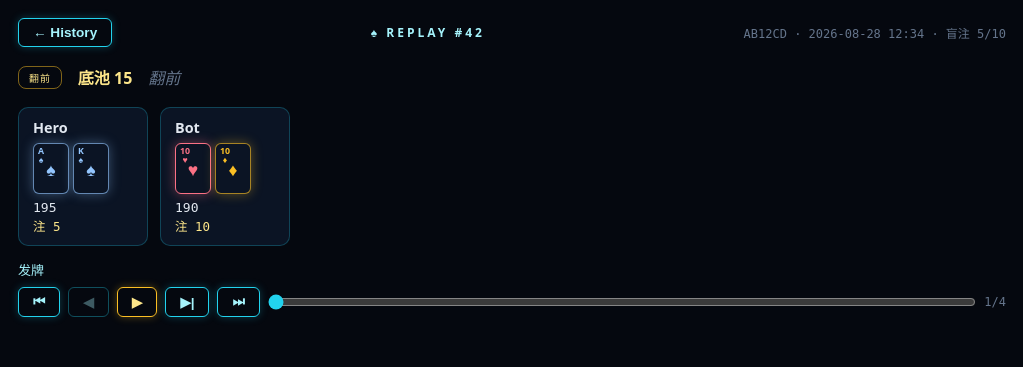
Test: slider scrubs to a frame
Check: the text "发牌" is shown, box [18, 263, 44, 278]
Set the slider with class "replay-slider" to "2" at (737, 302), box [268, 294, 976, 310]
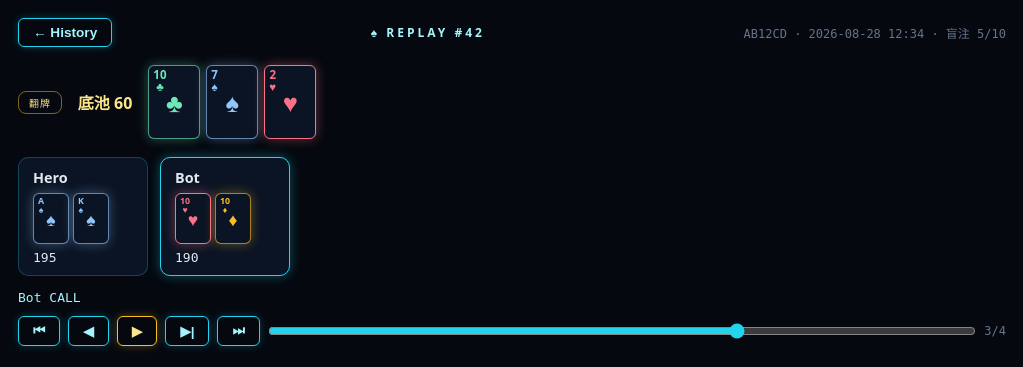
Check: the text "Bot CALL" is shown, box [18, 290, 81, 305]
